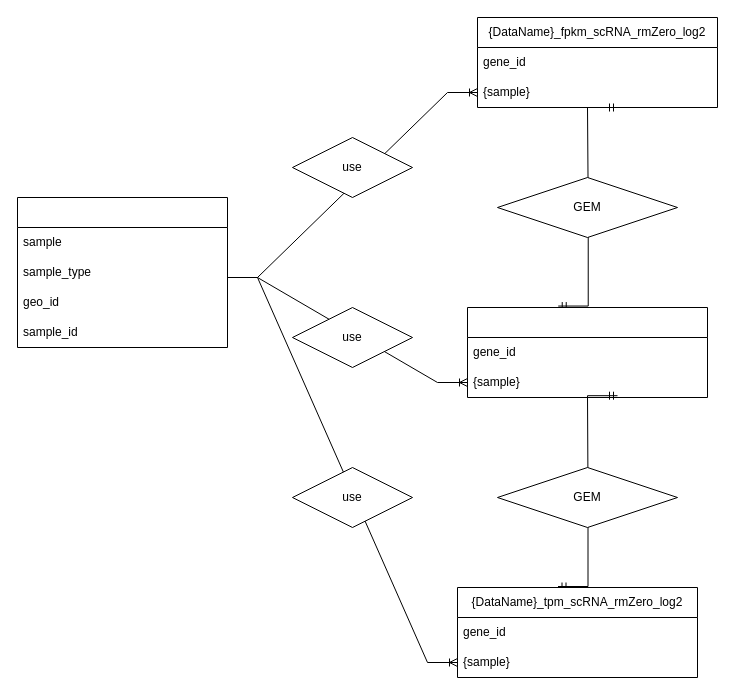
Image size: 735x695. Some labels were removed from this diagram. Each missing label, with the box of its shape:
{DataName}_count_scRNA_rmZero_log2: (466, 306, 708, 398)
{DataName}_scRNA_category_table: (16, 196, 228, 348)
